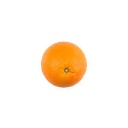orange: (42, 38, 88, 87)
